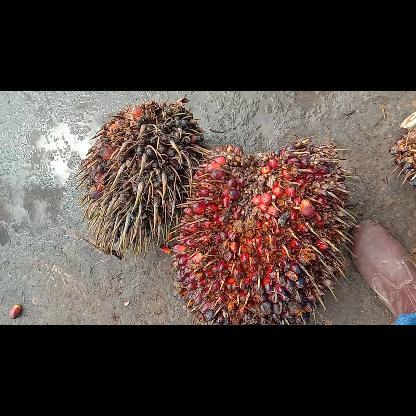TBS abnormal: (70, 100, 206, 256)
TBS masak: (168, 136, 354, 324)
